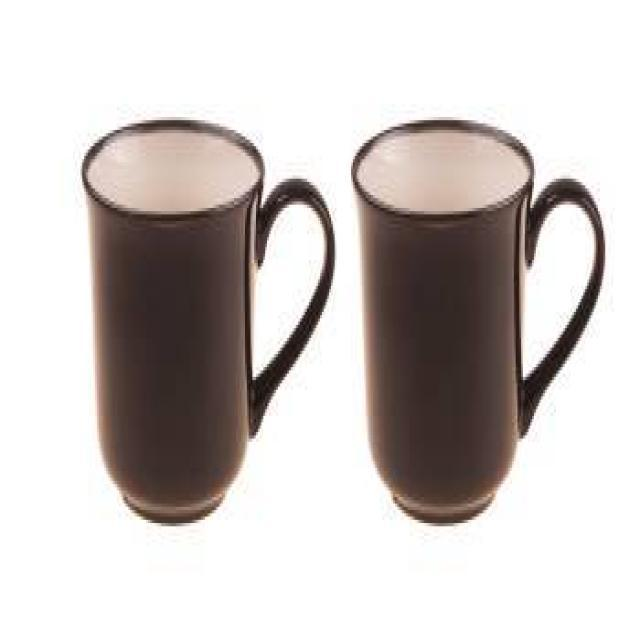Coffee Mug: (348, 113, 608, 530), (79, 108, 338, 526)
